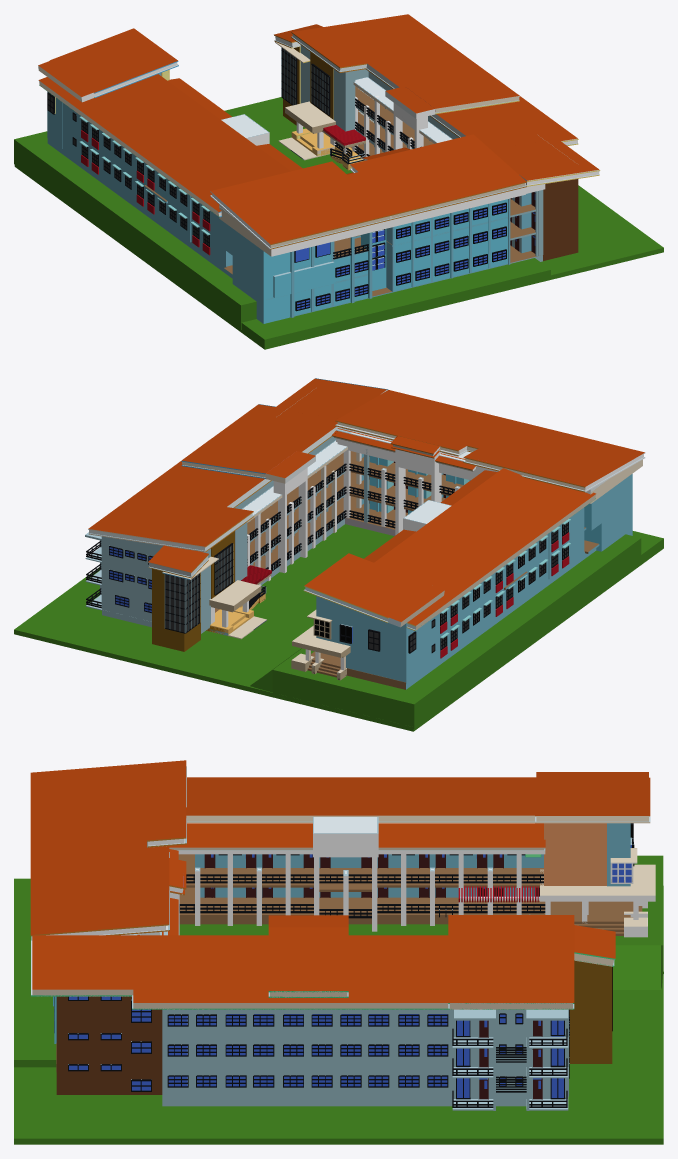
The model's file is CAET.glb.
3 renders of one model, top to bottom at view 1: azimuth 30°, elevation 25°; view 2: azimuth 150°, elevation 25°; view 3: azimuth 270°, elevation 25°, orthographic. The views are drawn at different scales.
Parts seen in each view (by area): view 1: cube.268; view 2: cube.268; view 3: cube.268.
Boxes of the visible parts, left/top/right/bottom form: cube.268: left=14, top=14, right=663, bottom=349; cube.268: left=14, top=378, right=663, bottom=731; cube.268: left=14, top=760, right=663, bottom=1144.
Bounding box in the file's own units: 28.54 × 7.79 × 30.96.
77 materials, 76 textured.
